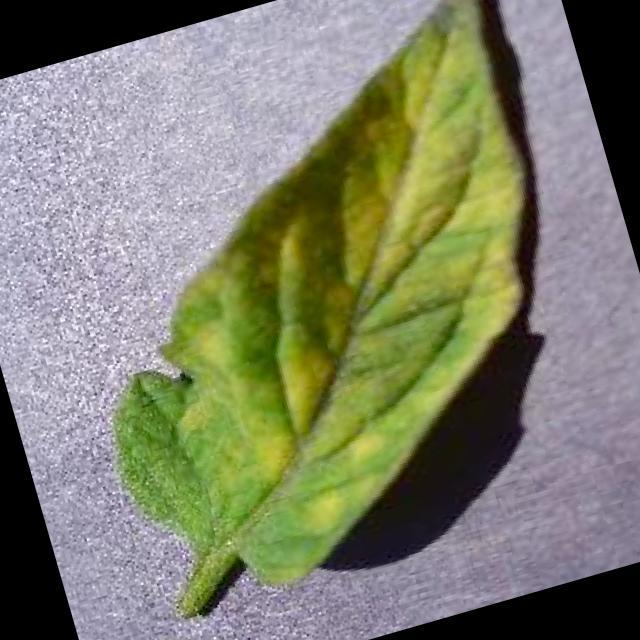Tomato healthy leaf: (20, 0, 624, 626)
